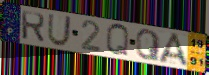2: (79, 20, 102, 54)
A: (157, 32, 191, 69)
Q: (135, 29, 162, 63), (105, 23, 130, 59)
R: (20, 9, 47, 44)
U: (46, 13, 73, 48)
